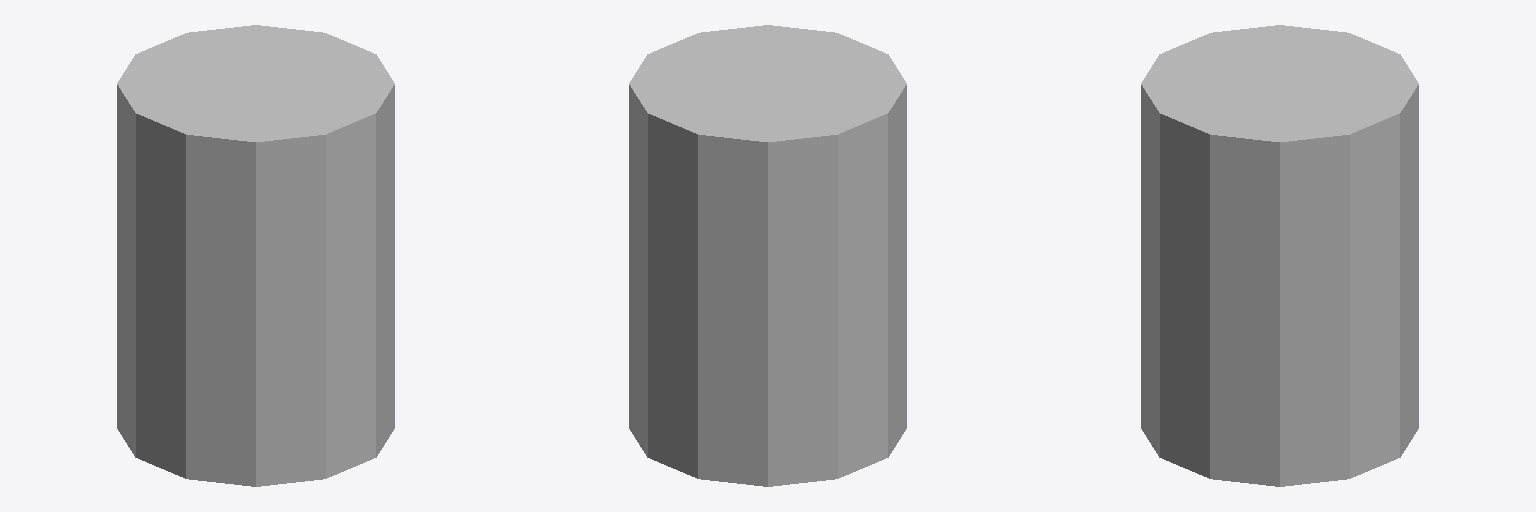
File: soupcan.obj
3 renders of one model, left to right at view 1: azimuth 30°, elevation 25°; view 2: azimuth 150°, elevation 25°; view 3: azimuth 270°, elevation 25°, orthographic.
Visible parts, largest first — view 1: Cylinder02, Regroup01; view 2: Cylinder02, Regroup01; view 3: Cylinder02, Regroup01.
Part boxes in pixels (x1,y1,x2,y2): Cylinder02: (117, 85, 394, 486); Regroup01: (117, 25, 394, 141); Cylinder02: (629, 85, 906, 486); Regroup01: (629, 25, 906, 141); Cylinder02: (1141, 85, 1418, 486); Regroup01: (1141, 25, 1418, 141).
Bounding box in the file's own units: 15 × 20.5 × 15.